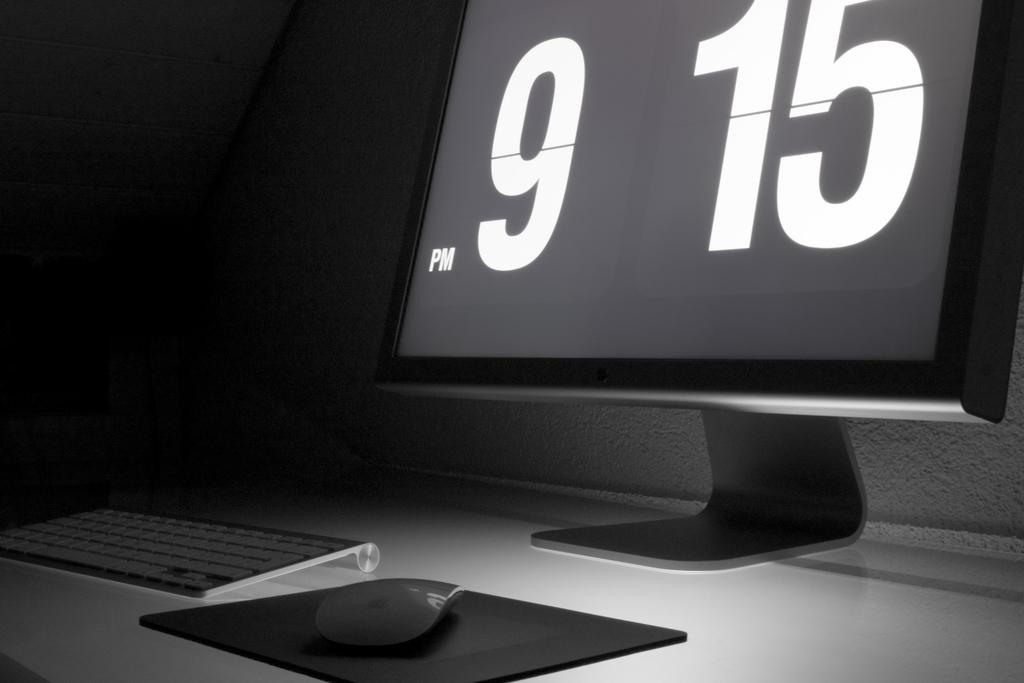Computer-keyboard: (3, 506, 380, 600)
Computer-monitor: (375, 1, 1020, 573)
